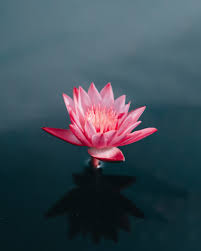flower: (31, 69, 155, 180)
